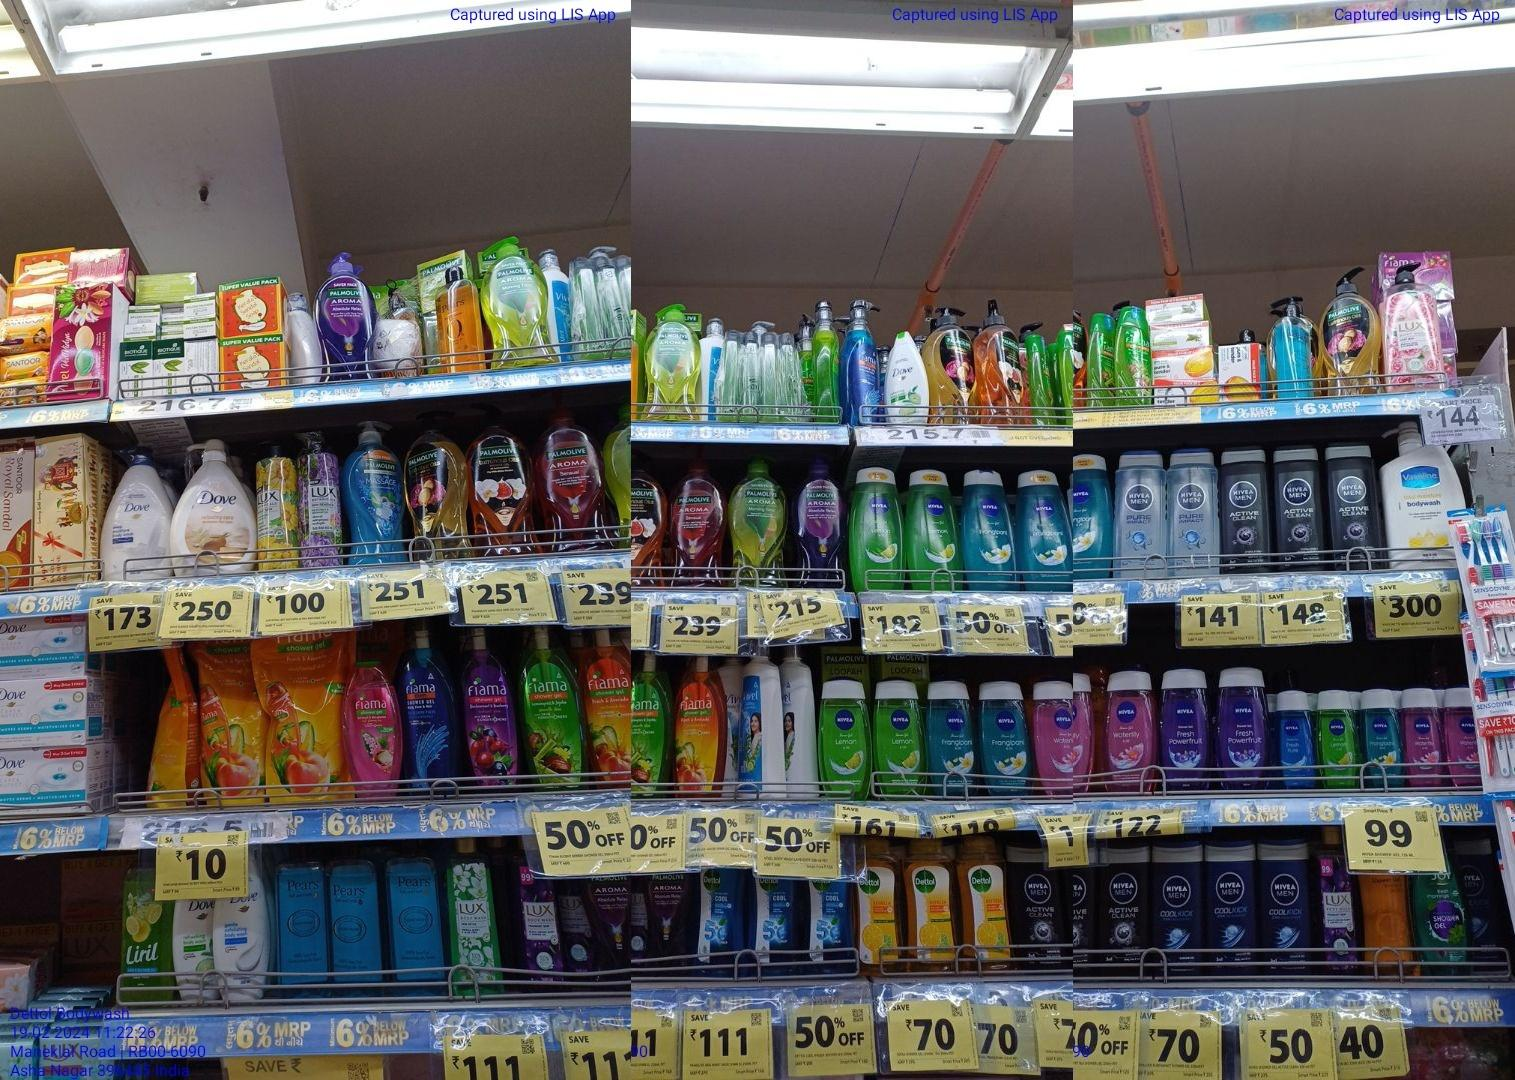Dettol_Bodywash_Cool: (697, 868, 746, 978), (803, 875, 857, 975), (748, 872, 796, 971)
Dettol_Bodywash_Refresh: (961, 835, 1012, 971), (907, 839, 959, 974), (858, 833, 902, 974)
Dove_Gentle_Exfoliating_Body_Wash_250ML: (219, 896, 269, 1004)
Dove_Refreshing_Body_Wash_250ML: (177, 898, 215, 1005)
Get_Real_Shower_Gel_Moisturising_Glycerin_300ML: (1360, 873, 1410, 979)
Joy_Shower_Gel_Mint_and_Eucalyptus_250ML: (1413, 874, 1468, 981)
Liril_Lime_and_Tea_Tree_Oil_Body_Wash_250ML: (122, 881, 173, 1003)
Lux_Black_Orchid_Scent_and_Juniper_Oil_Body_Wash_245ML: (1317, 829, 1356, 977), (519, 870, 561, 995)
Lux_Body_Wash_Skin_Detox_Freesia_Scent_and_Alove_Vera_245ML: (451, 839, 503, 998)
Nivea_Shower_Gel_Frangipani_and_Oil_250ML: (964, 465, 1021, 594), (978, 683, 1032, 798), (1024, 468, 1073, 588), (927, 679, 976, 795), (1075, 455, 1112, 579), (1362, 686, 1404, 787)
Nivea_Shower_Gel_Fresh_Powerfruit_250ML: (1158, 664, 1212, 790), (1218, 669, 1267, 788)
Nivea_Shower_Gel_Lemon_and_Oil_250ML: (852, 456, 906, 591), (819, 676, 871, 798), (911, 466, 961, 590), (874, 676, 923, 797), (1316, 686, 1360, 789)
Nivea_Shower_Gel_Waterlily_and_Oil_250ML: (1104, 672, 1155, 792), (1406, 687, 1444, 787)
Palmolive_Aroma_Relax_250ML: (649, 868, 691, 976)
Pears_Pure_Glycerin_and_Mint_Extracts_Body_Wash_250ML: (386, 837, 448, 997), (279, 846, 332, 989), (337, 843, 383, 997)
